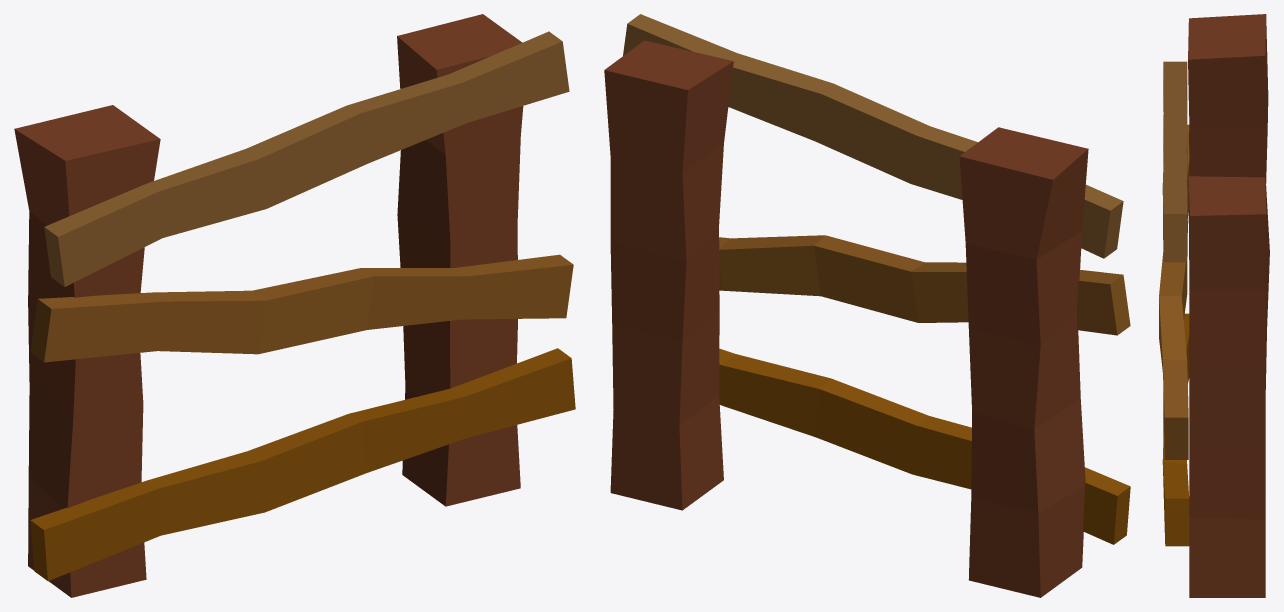
The model's file is fance1 1.fbx.
The picture shows the model from 3 angles, left to right: view 1: azimuth 30°, elevation 25°; view 2: azimuth 150°, elevation 25°; view 3: azimuth 270°, elevation 25°; orthographic projection. The views are drawn at different scales.
Parts seen in each view (by area): view 1: Cube, Куб.002, Куб, Куб.001; view 2: Cube, Куб, Куб.002, Куб.001; view 3: Cube, Куб.001, Куб, Куб.002.
Boxes of the visible parts, box(x1,y1,x2,y2) form: Cube: box(14, 14, 523, 597); Куб.002: box(30, 348, 575, 580); Куб: box(44, 31, 569, 286); Куб.001: box(30, 254, 573, 362); Cube: box(604, 40, 1088, 597); Куб: box(623, 14, 1123, 258); Куб.002: box(719, 348, 1130, 544); Куб.001: box(719, 235, 1130, 335); Cube: box(1188, 14, 1269, 597); Куб.001: box(1159, 124, 1189, 459); Куб: box(1162, 61, 1187, 262); Куб.002: box(1162, 313, 1189, 546).
Bounding box in the file's own units: 316 × 257 × 65.33.
